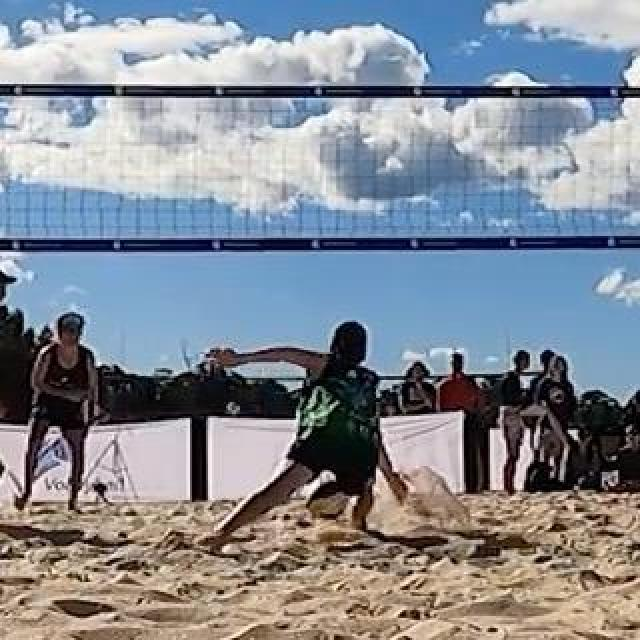volleyball: (306, 475, 348, 519)
